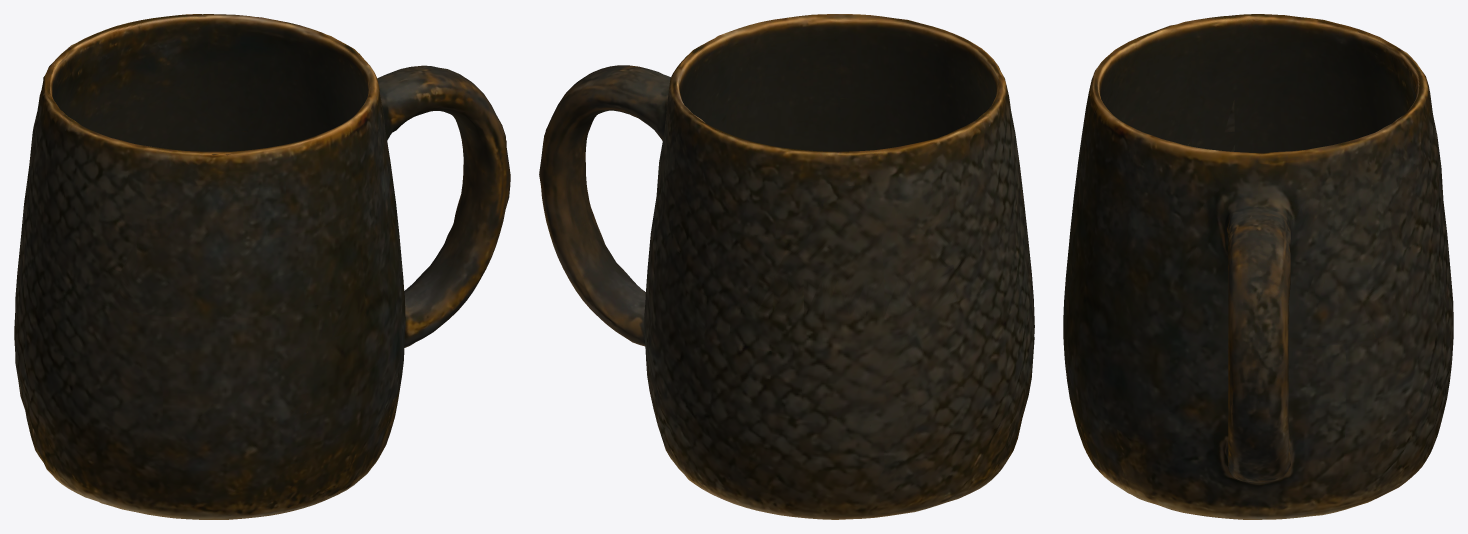
Rendered from desktop.glb.
The picture shows the model from 3 angles, left to right: view 1: azimuth 30°, elevation 25°; view 2: azimuth 150°, elevation 25°; view 3: azimuth 270°, elevation 25°; orthographic projection.
Visible parts, largest first — view 1: mug; view 2: mug; view 3: mug.
Boxes of the visible parts, box(x1,y1,x2,y2) form: mug: box(14, 14, 510, 519); mug: box(539, 14, 1034, 519); mug: box(1063, 14, 1453, 519).
Bounding box in the file's own units: 0.1314 × 0.1 × 0.0957.
Materials: 1 (1 with a texture image).
